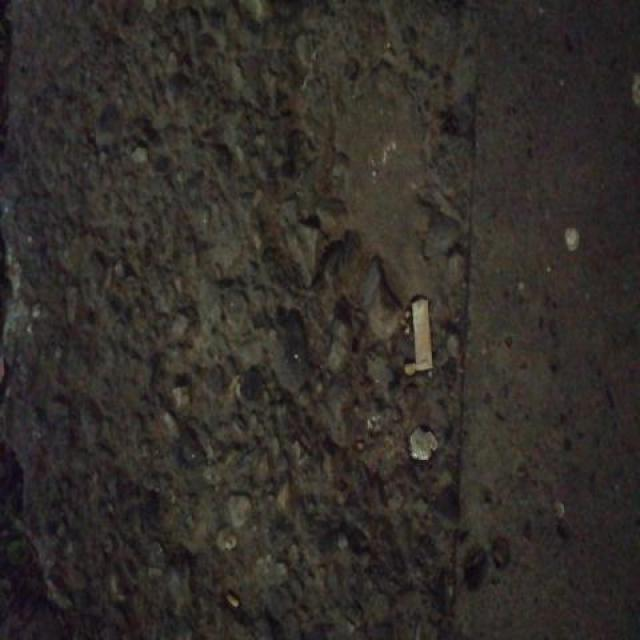non-organic waste: (408, 292, 436, 376)
